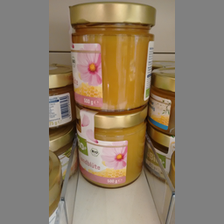honey: (62, 1, 157, 110), (72, 107, 150, 188)
